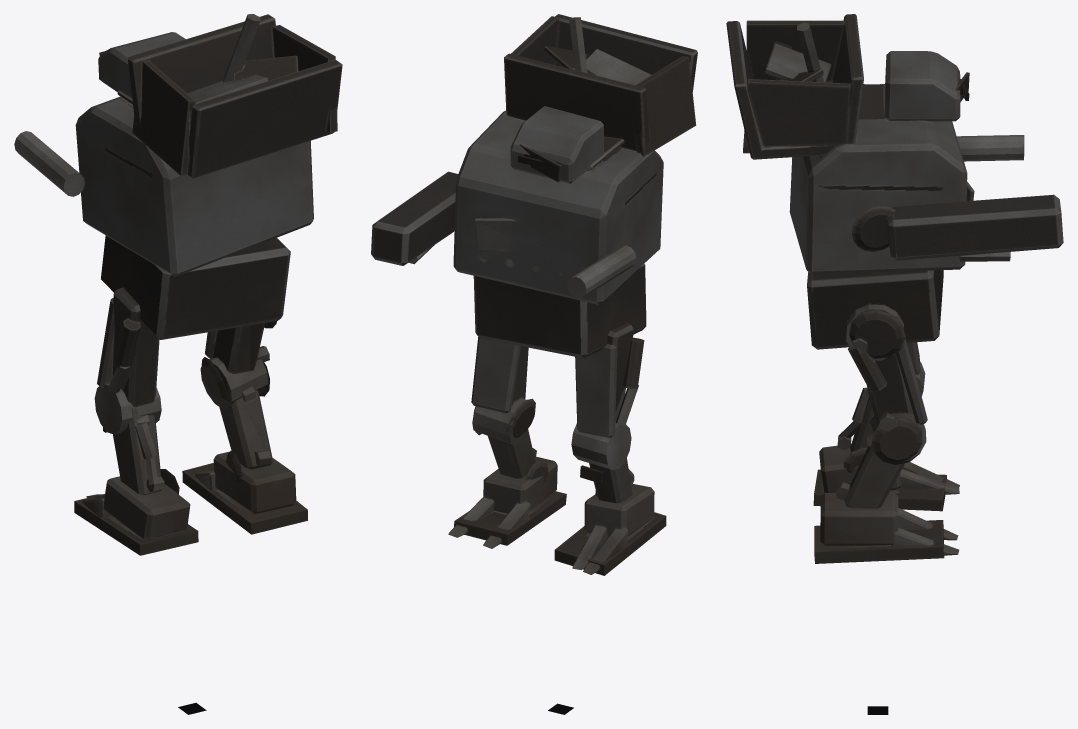
Rendered from chs_scrounger_wreck.fbx.
3 views of the same model, side by side, from view 1: azimuth 30°, elevation 25°; view 2: azimuth 150°, elevation 25°; view 3: azimuth 270°, elevation 25° (orthographic). The views are drawn at different scales.
Parts seen in each view (by area): view 1: torso_bar, base_bar, thighL_bar, footR_bar, footL_bar, thighR_bar, shinL_bar, shinR_bar; view 2: torso_bar, base_bar, thighL_bar, footL_bar, footR_bar, thighR_bar, nano_bar, shinR_bar, shinL_bar; view 3: torso_bar, nano_bar, thighR_bar, base_bar, footR_bar, footL_bar, shinR_bar, shinL_bar.
Part boxes in pixels (x1,y1,x2,y2): torso_bar: (14, 14, 342, 276); base_bar: (101, 235, 290, 339); thighL_bar: (94, 287, 161, 434); footR_bar: (182, 451, 307, 534); footL_bar: (74, 476, 198, 555); thighR_bar: (200, 321, 276, 409); shinL_bar: (103, 407, 179, 495); shinR_bar: (219, 386, 272, 484); torso_bar: (453, 14, 697, 304); base_bar: (473, 263, 646, 358); thighL_bar: (571, 323, 644, 469); footL_bar: (554, 484, 666, 575); footR_bar: (448, 456, 566, 548); thighR_bar: (471, 337, 535, 445); nano_bar: (371, 171, 458, 265); shinR_bar: (488, 429, 548, 484); shinL_bar: (580, 458, 634, 503); torso_bar: (726, 14, 1024, 274); nano_bar: (887, 194, 1063, 261); thighR_bar: (846, 304, 927, 464); base_bar: (807, 270, 943, 349); footR_bar: (814, 492, 959, 563); footL_bar: (813, 443, 959, 511); shinR_bar: (835, 433, 904, 508); shinL_bar: (837, 387, 873, 473).
Bounding box in the file's own units: 243 × 741 × 325.
Materials: 2 (2 with a texture image).
